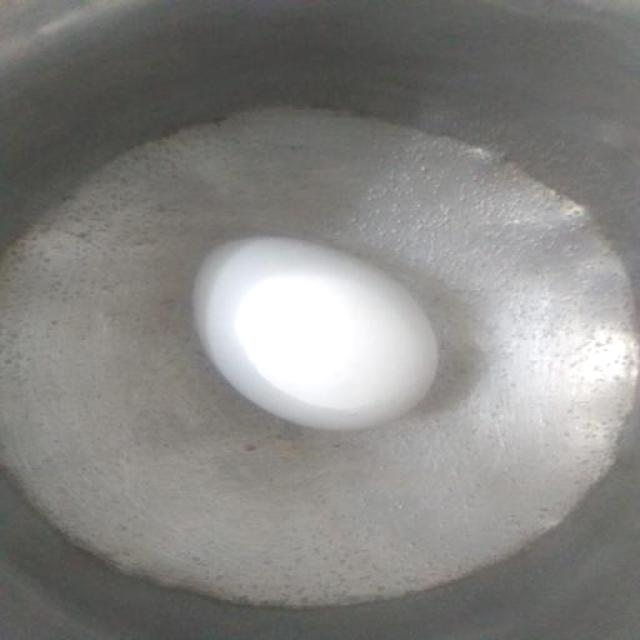telur: (187, 231, 448, 434)
